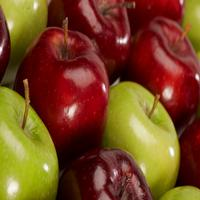apple: (17, 25, 113, 157), (103, 76, 179, 200), (123, 14, 200, 109)
